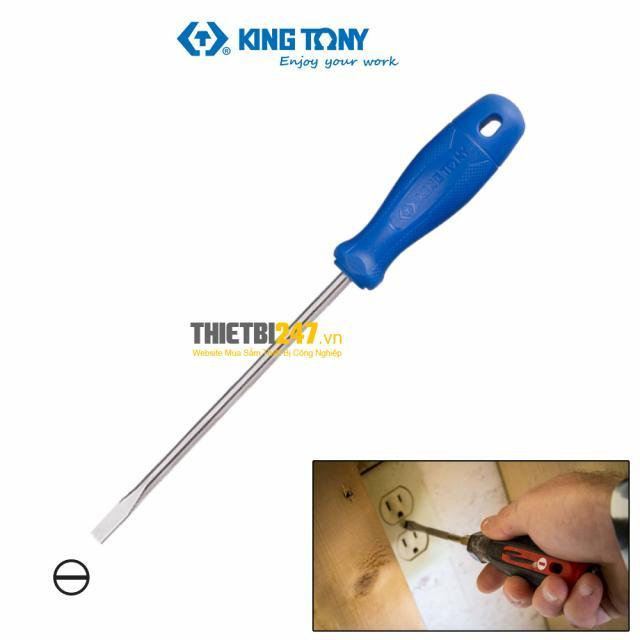screwdriver: (88, 85, 540, 550)
